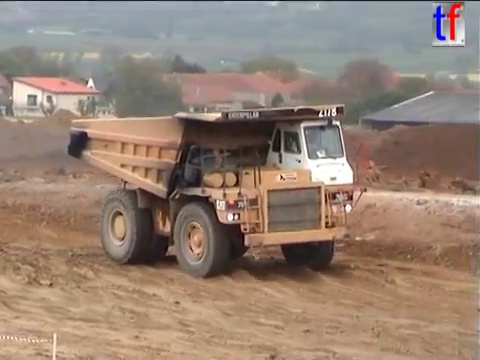truck: (64, 101, 373, 279)
